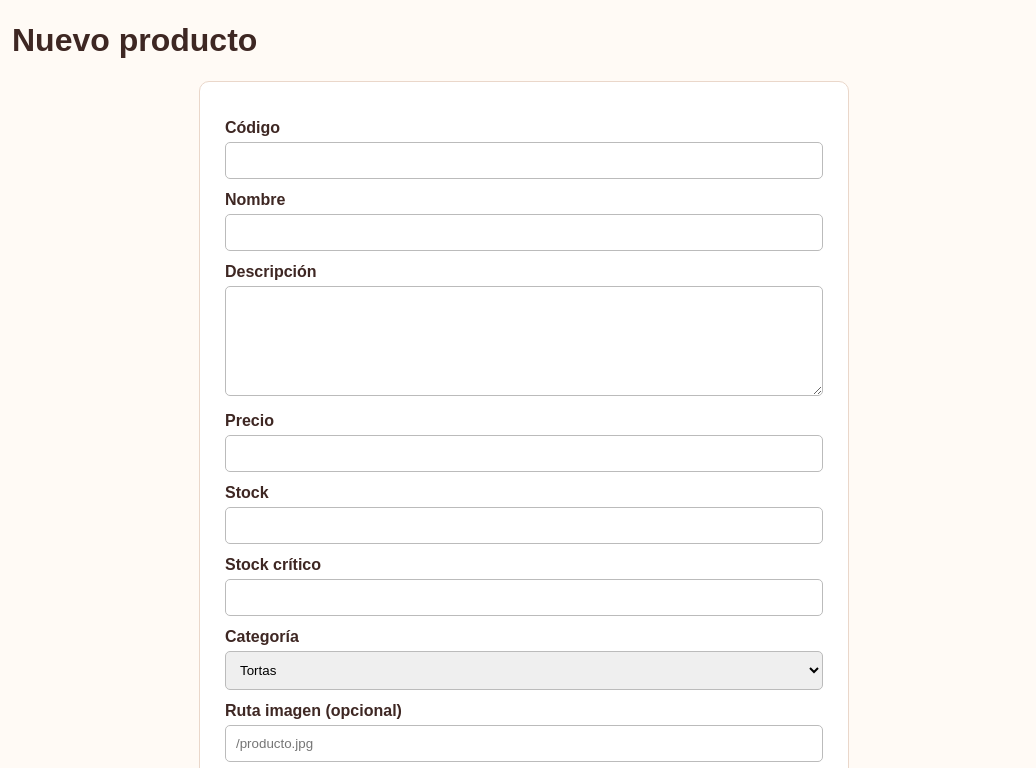
FormularioProductoAdmin › muestra un error si el stock no es un número entero
The width and height of the screenshot is (1036, 768).
Type "TOR009" into the field with id "codigo".
click(524, 161); type("TOR009")  # box 225,142 -> 823,179
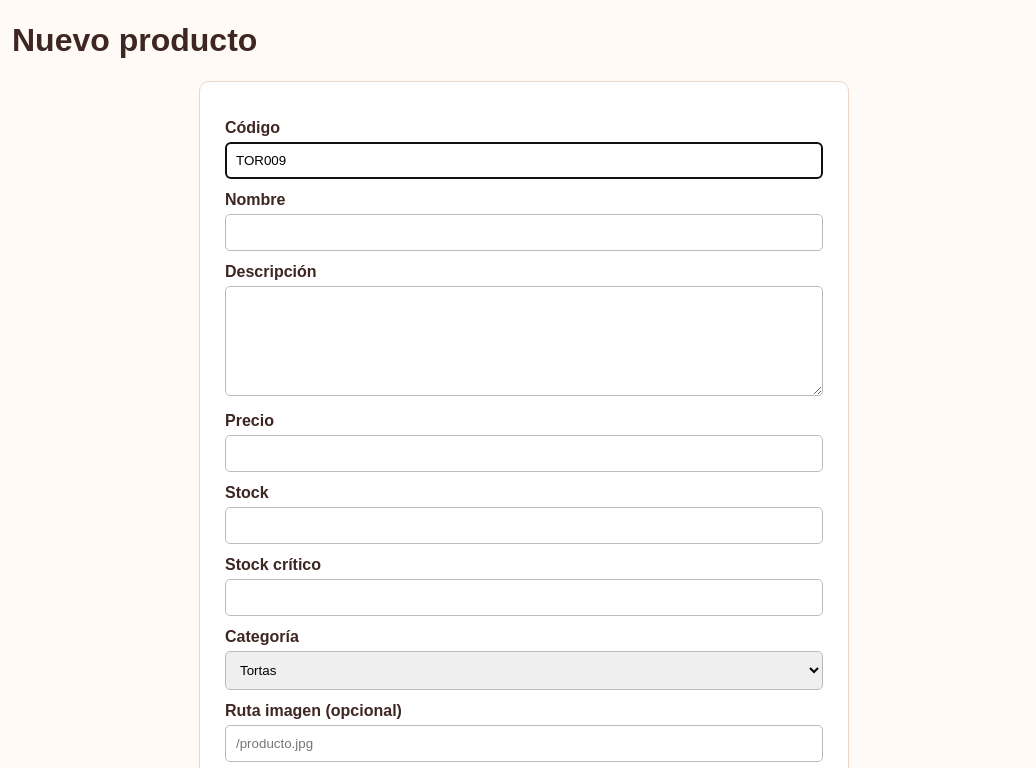
Type "Torta Especial" into the field with id "nombre".
click(524, 233); type("Torta Especial")  # box 225,214 -> 823,251
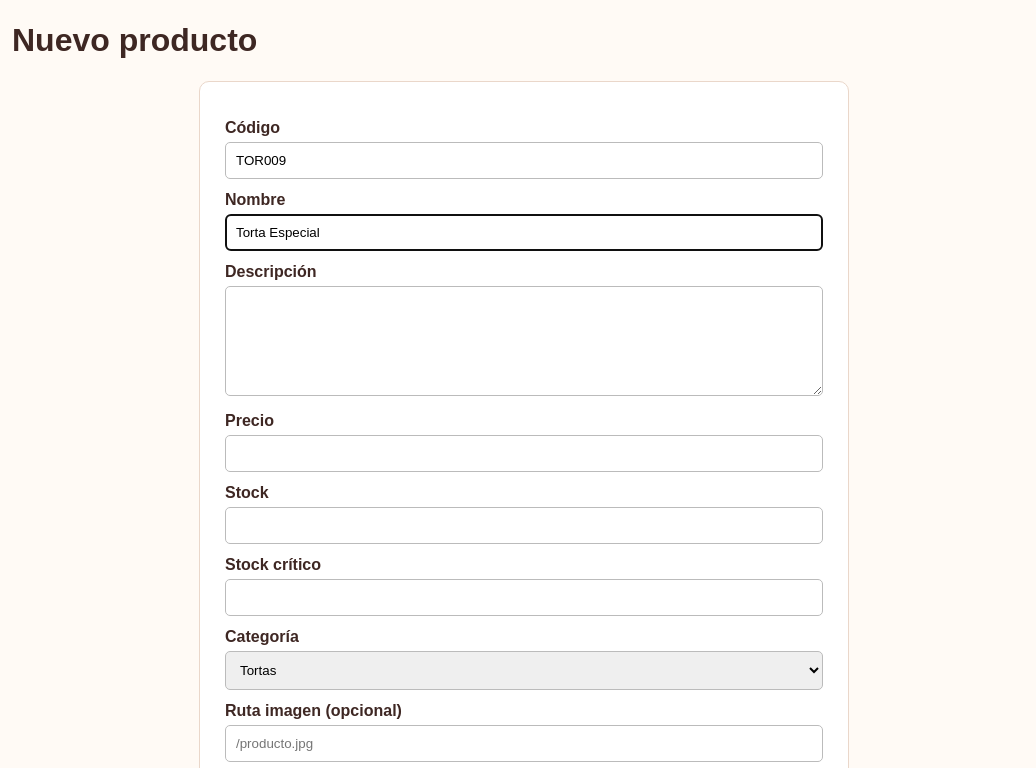
Type "15000" into the 1st number field.
click(524, 454); type("15000")  # box 225,435 -> 823,472
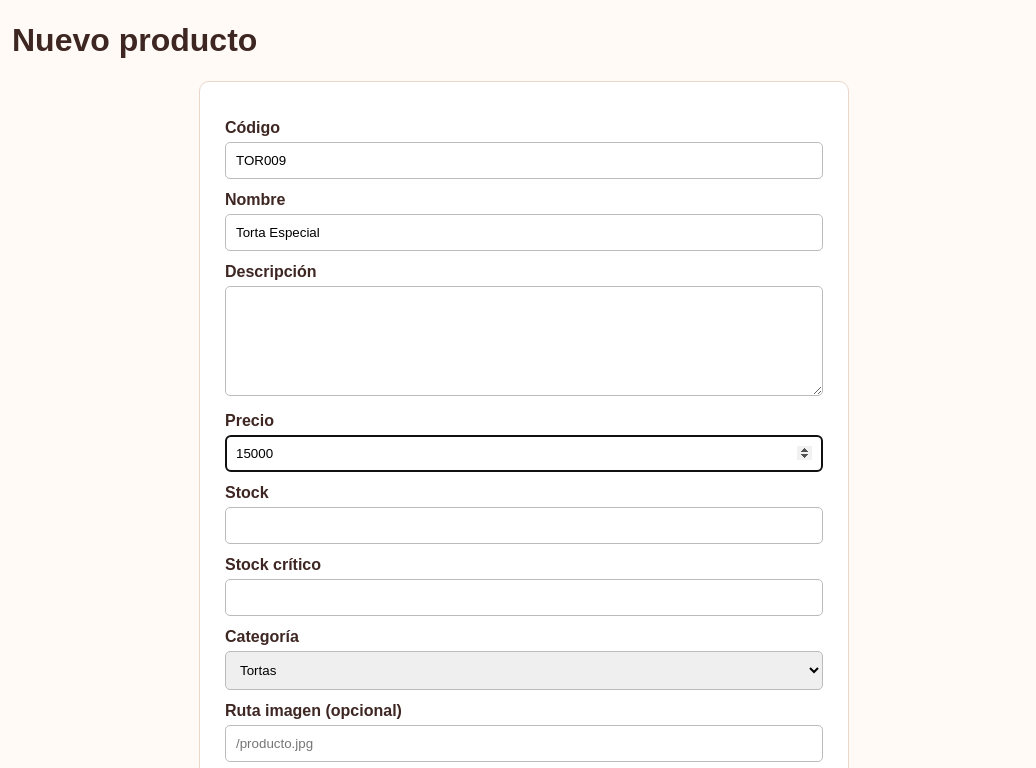
Type "4.5" into the number field with id "stock".
click(524, 526); type("4.5")  # box 225,507 -> 823,544
(page scrolled)
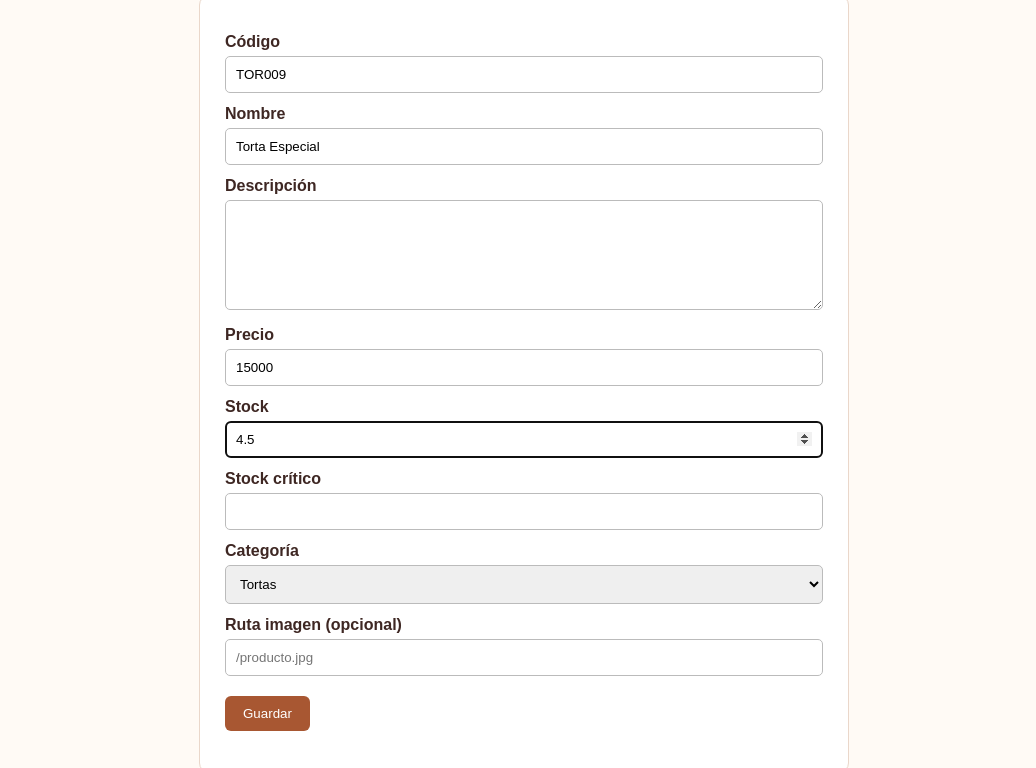
Submit the form
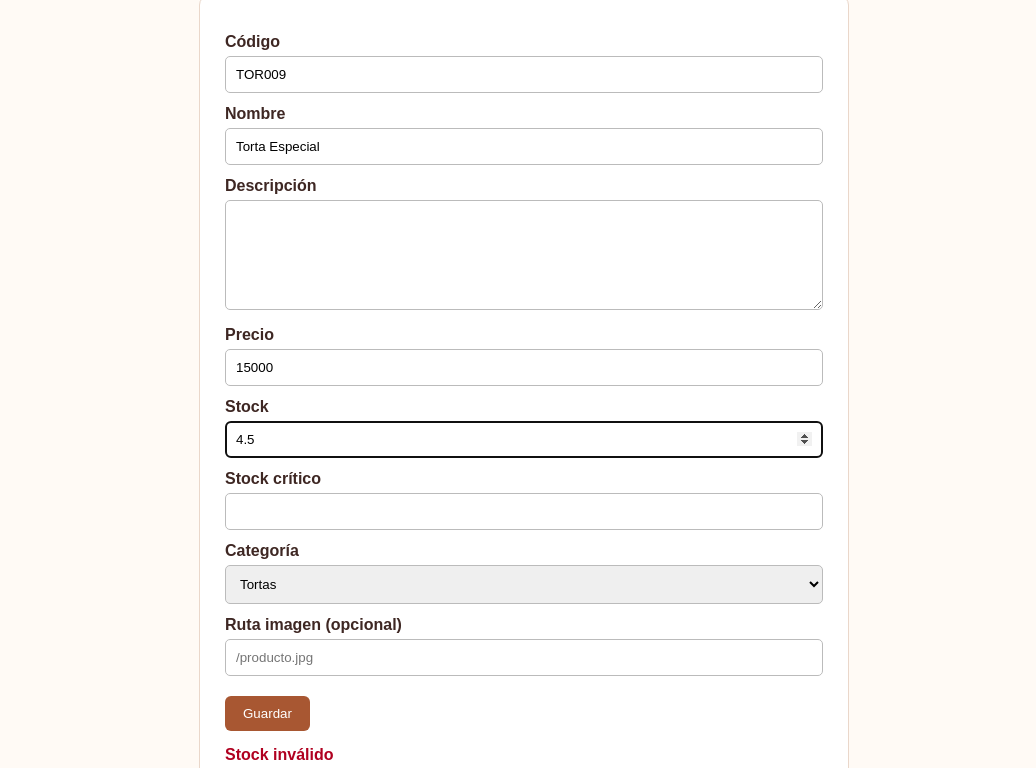
Expected: the text "Stock inválido" is shown, 225,746 -> 334,763
